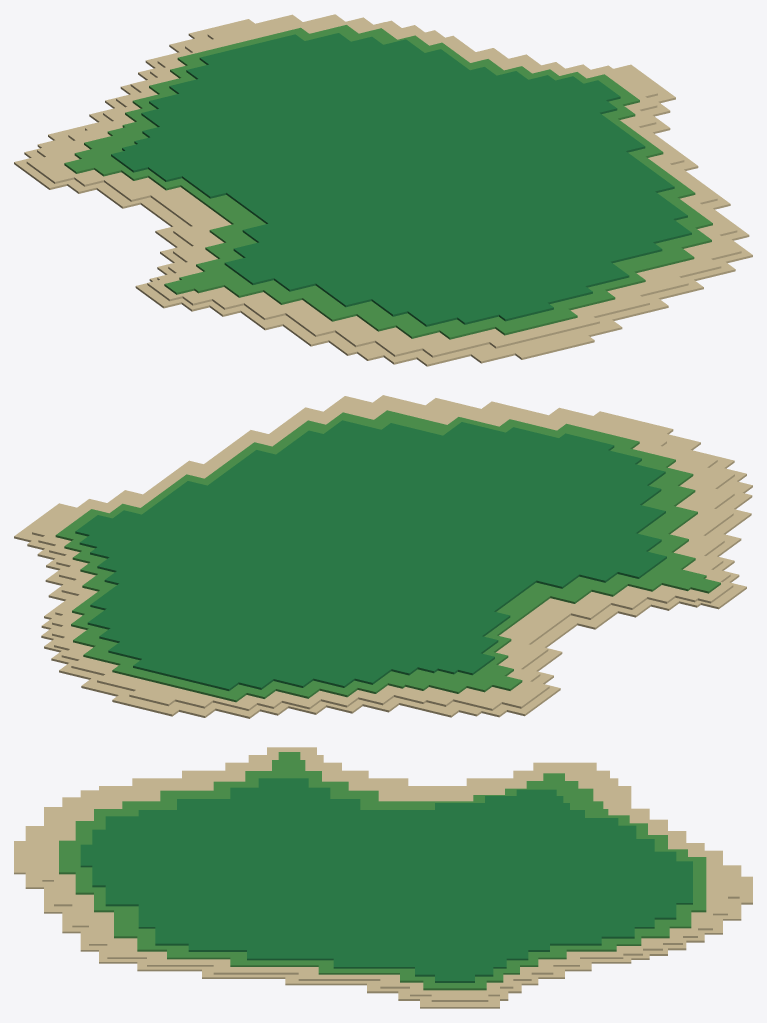
Rendered from island.fbx.
The picture shows the model from 3 angles, top to bottom: view 1: azimuth 30°, elevation 25°; view 2: azimuth 150°, elevation 25°; view 3: azimuth 270°, elevation 25°; orthographic projection. The views are drawn at different scales.
Parts seen in each view (by area): view 1: island; view 2: island; view 3: island.
Part boxes in pixels (bbox=[...]): island: bbox=[14, 14, 752, 366]; island: bbox=[14, 395, 752, 718]; island: bbox=[14, 747, 752, 1008].
Size of the model in its own units: 36900 by 480 by 44400.
